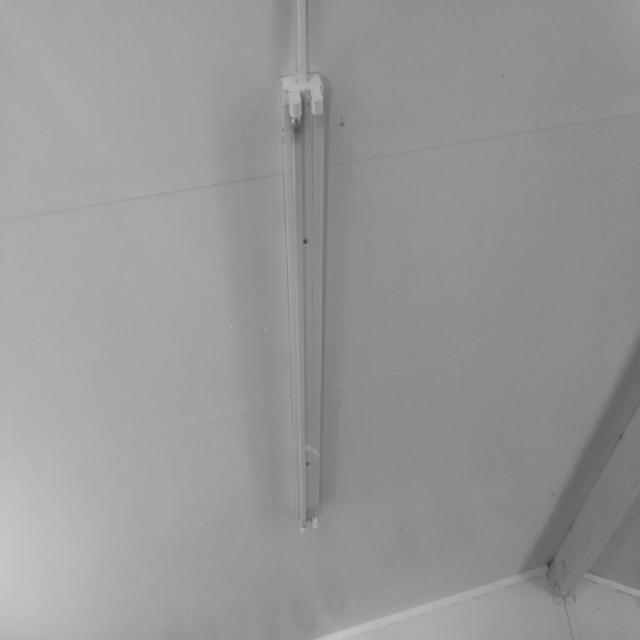light: (279, 72, 330, 532)
